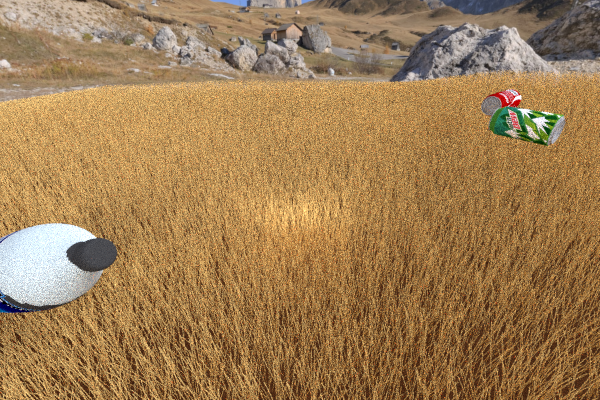Plastic Bottle: (0, 223, 117, 313), (488, 106, 565, 146), (481, 89, 521, 116)
